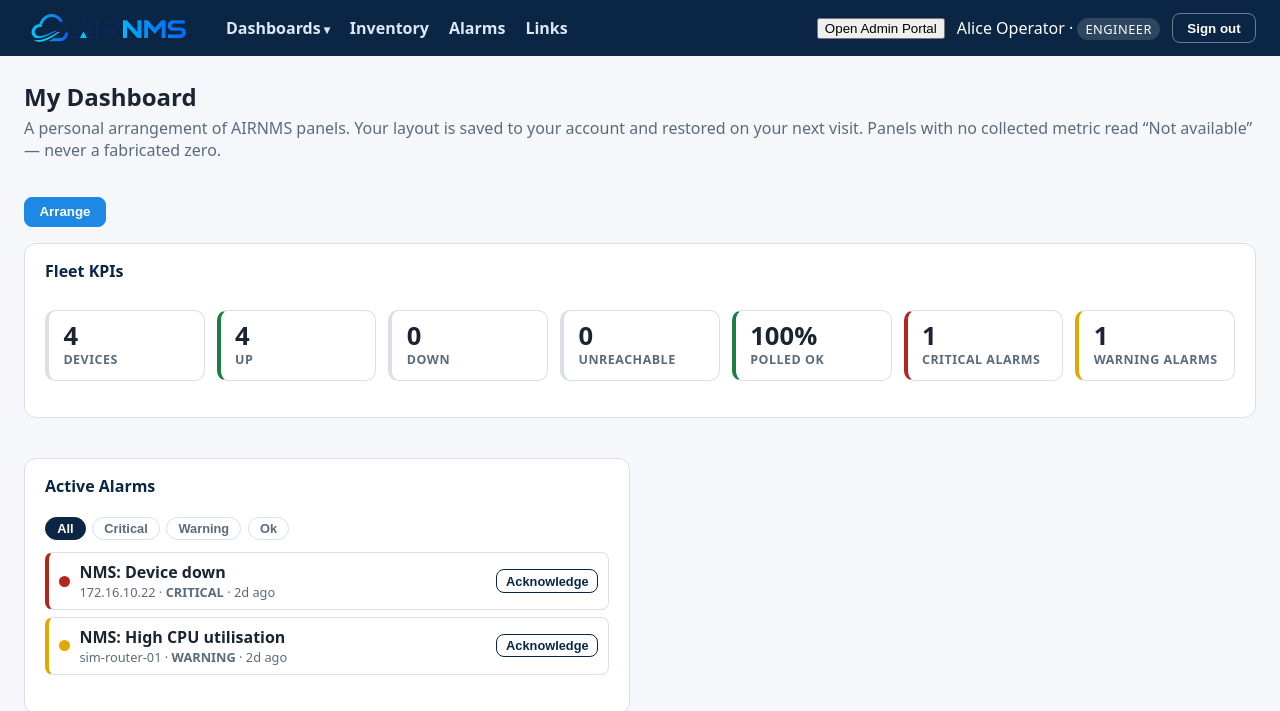
Test: Customisable dashboard page (ADR 0010) › shows a save error (never a silent drop) when the PUT is rejected
expect the heading "Fleet KPIs" is shown: met, box [45,260,124,282]
Click the button "Arrange": [65, 212] box [24,197,106,227]
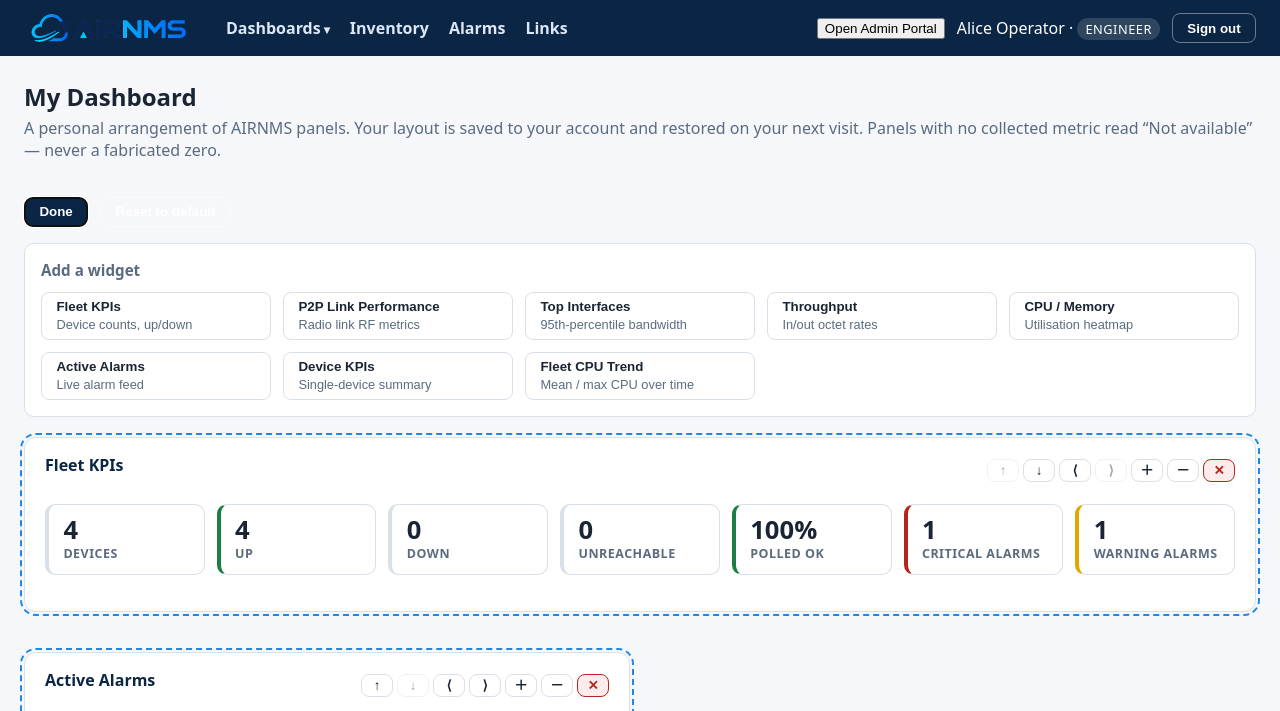
Click the button "Top Interfaces 95th-percentile bandwidth": [640, 316] box [525,292,755,340]
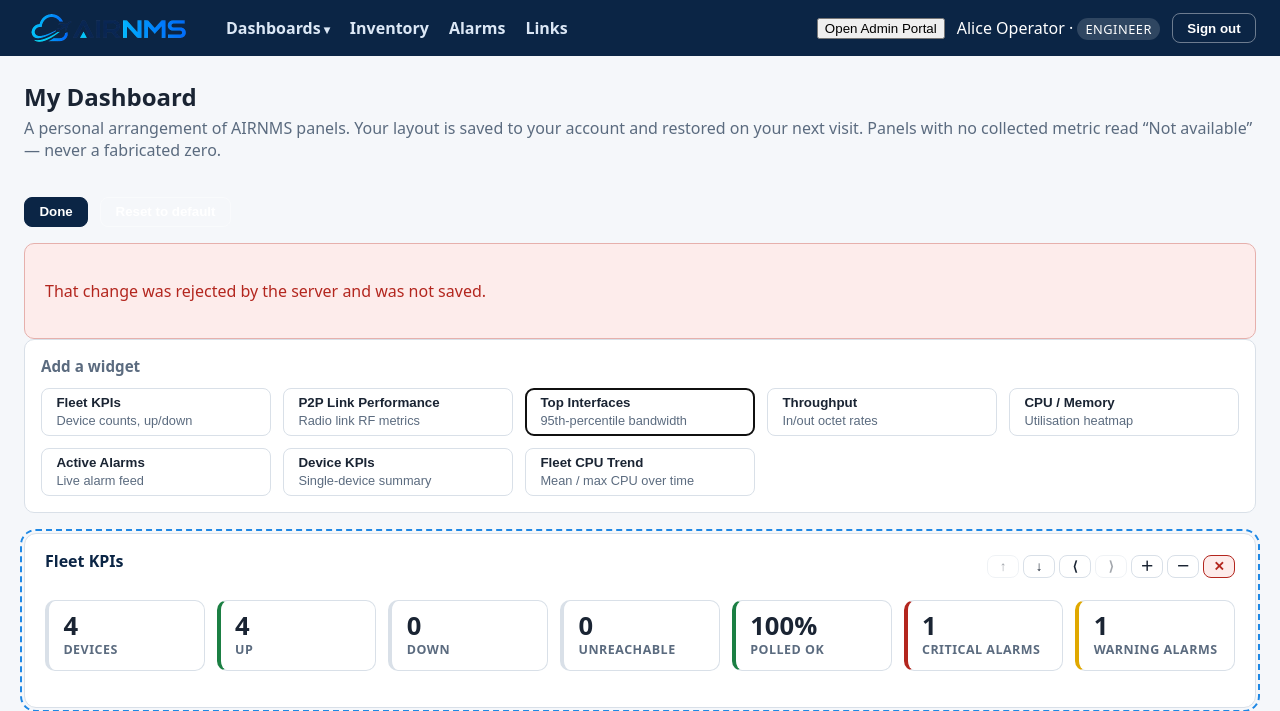
expect the message shows "rejected by the server": met, box [45,280,486,302]
